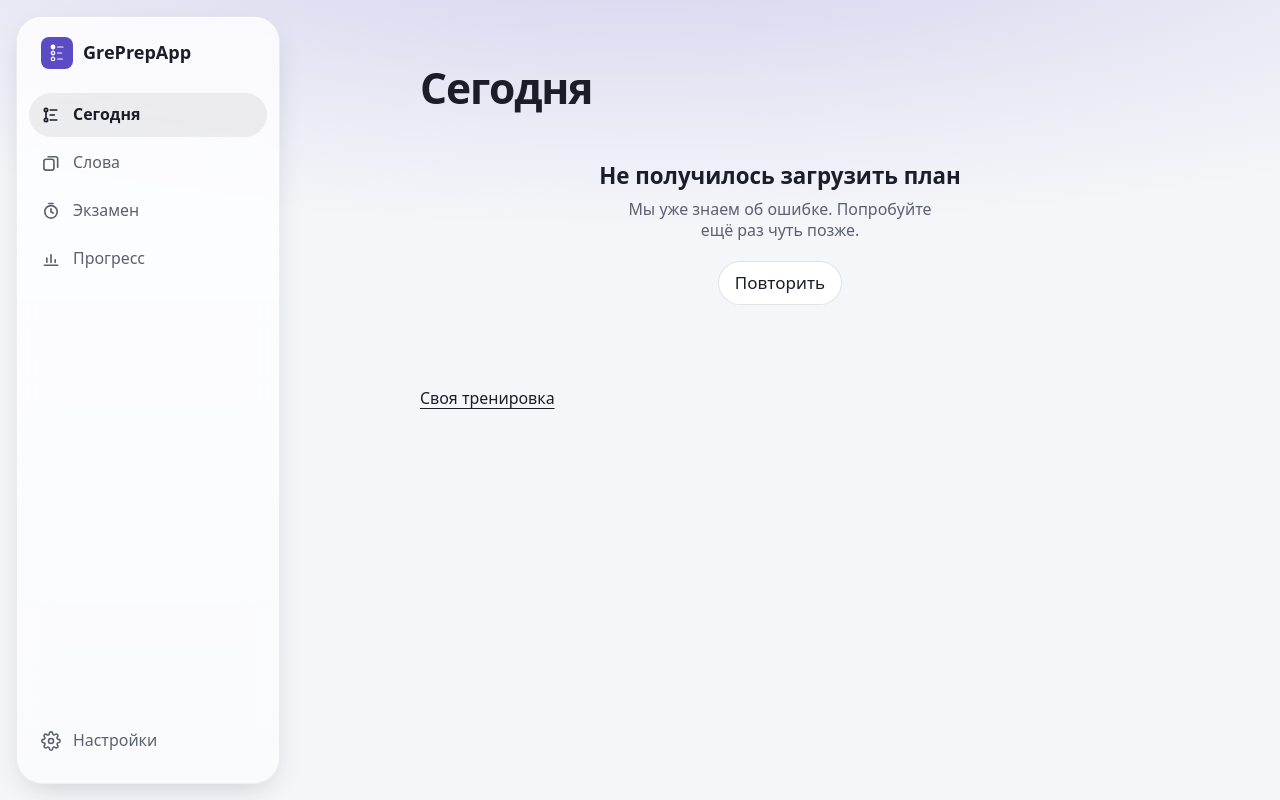
«Сегодня» › сервер не ответил — «Не получилось загрузить план», «Повторить» загружает
Check: the heading "Не получилось загрузить план" is shown, box x1=599 y1=161 x2=961 y2=191
Click the button "Повторить" at coordinates (780, 283), box x1=718 y1=261 x2=842 y2=305
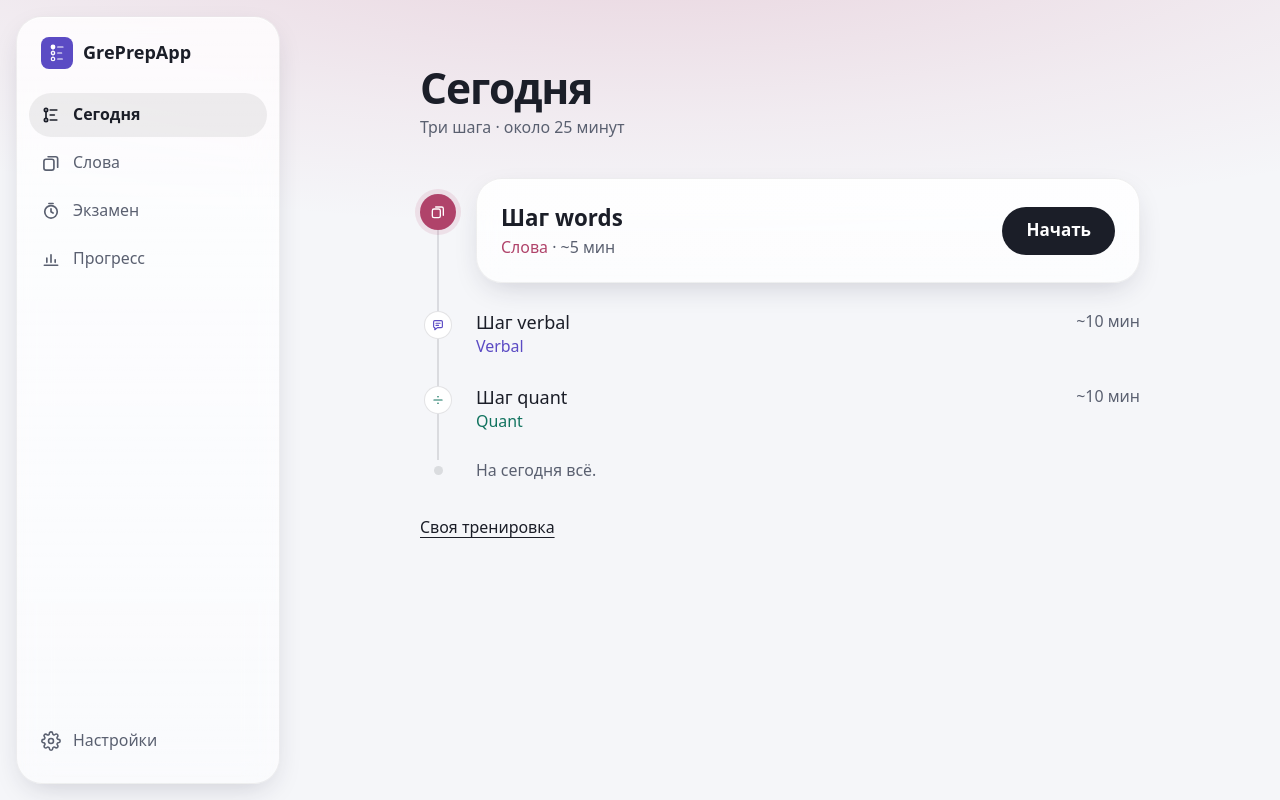
Check: the text "Три шага · около 25 минут" is shown, box x1=420 y1=116 x2=624 y2=138
